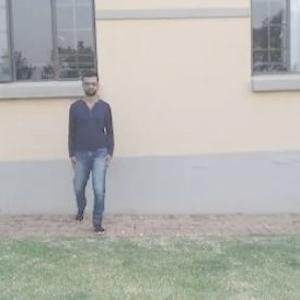follow: (66, 67, 114, 230)
